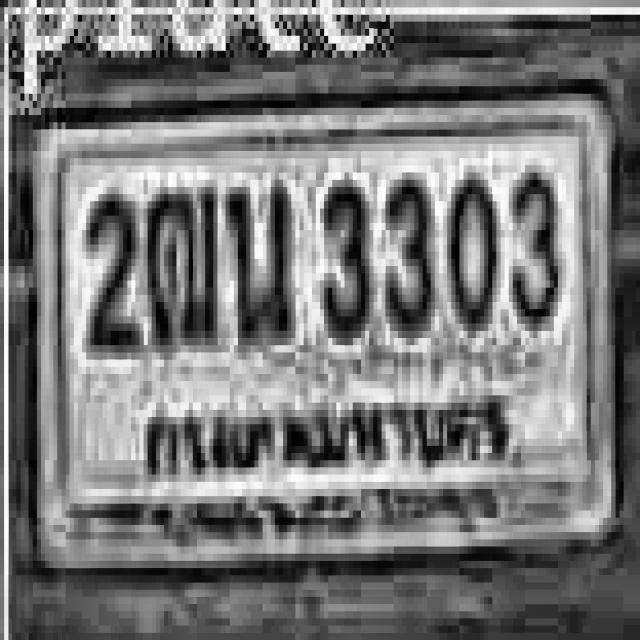license-plate: (27, 78, 623, 574)
